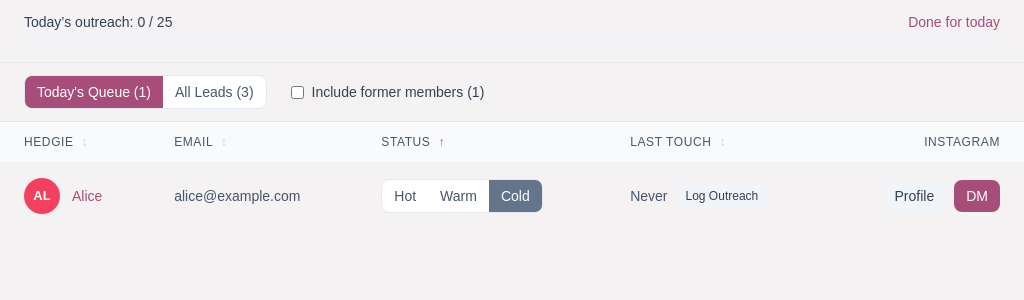
Test case: OutreachTable — All Leads view › hides leads without Instagram when the Instagram filter is checked
What coordinates should you click on to do the following:
click the button "All Leads (3)"
I would click on:
 (214, 92)
Its box is [163,76,266,108].
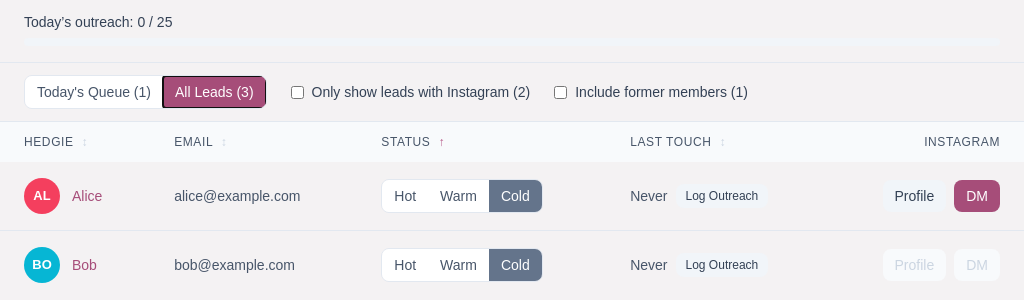
What coordinates should you click on to do the following:
click the checkbox labelled "Only show leads with Instagram (2)"
I would click on:
 (297, 92)
Its box is [291,86,304,98].
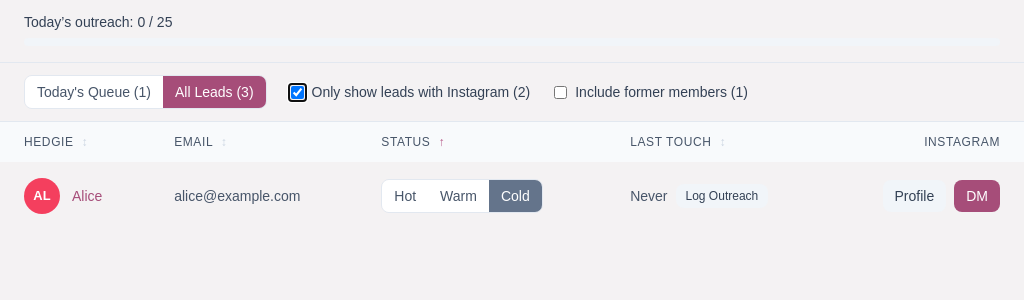
Expected: the link "Alice" is shown, [72,186,102,206]
Expected: the link "Bob" is gone
